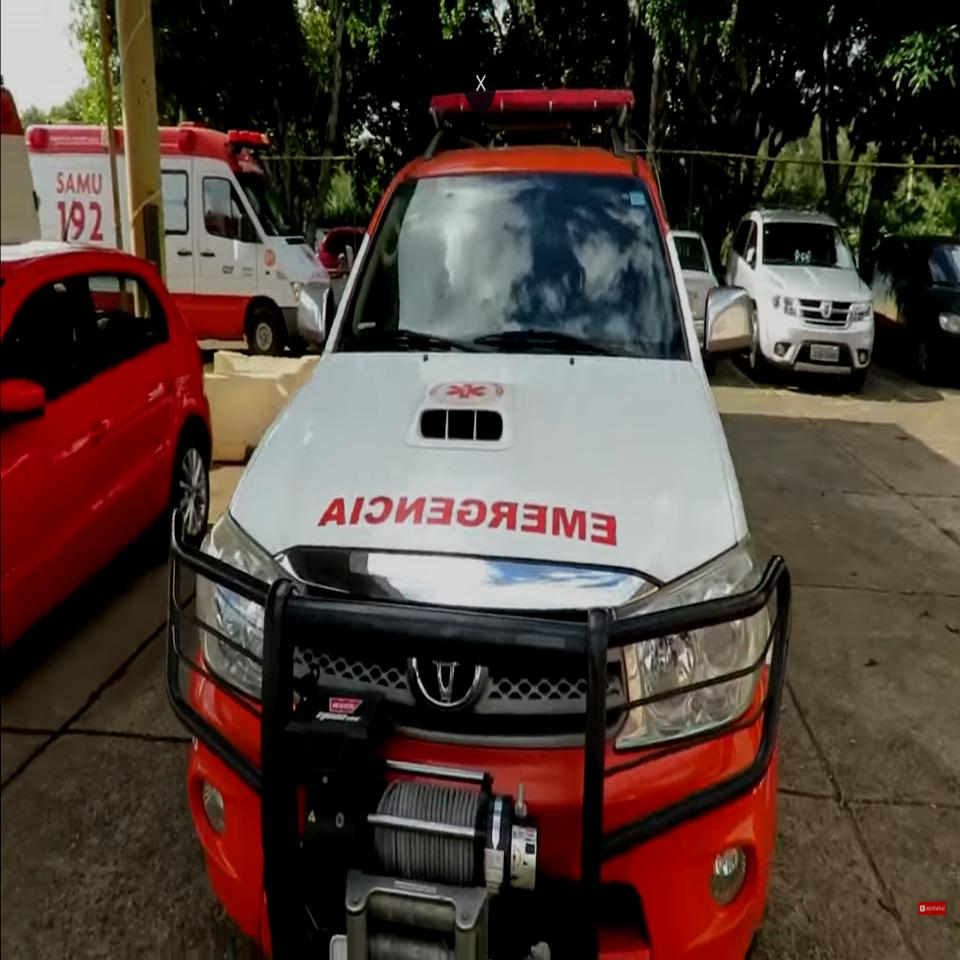ambulancia: (196, 85, 794, 960)
